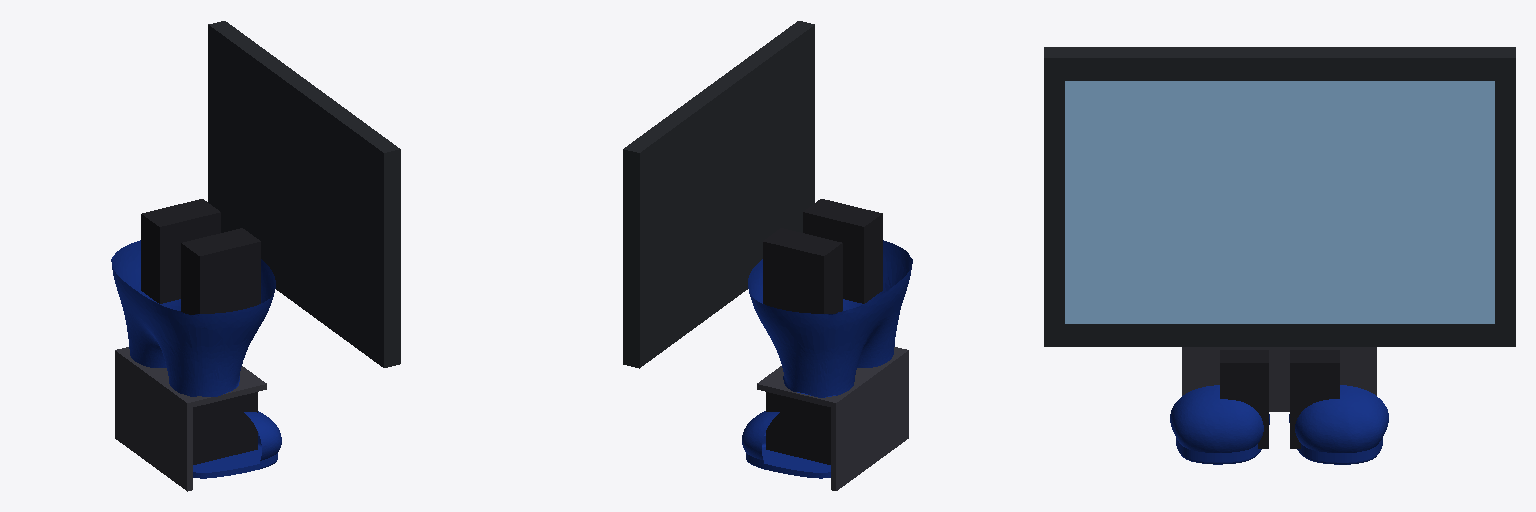
URDF robot description (haetburi):
<?xml version="1.0"?>
<!-- Haetburi biped (v14_sts3032_w4) - generated by tools/build_model.py, do not edit by hand -->
<robot name="haetburi">
  <mujoco>
    <compiler meshdir="." balanceinertia="true" discardvisual="false" strippath="false" fusestatic="false"/>
  </mujoco>
  <material name="display"><color rgba="0.18 0.19 0.21 1"/></material>
  <material name="screen"><color rgba="0.62 0.80 0.95 1"/></material>
  <material name="shell"><color rgba="0.106 0.216 0.541 1"/></material>
  <material name="motor"><color rgba="0.15 0.15 0.17 1"/></material>
  <material name="foot"><color rgba="0.25 0.25 0.28 1"/></material>
  <link name="world"/>
  <joint name="floating_base" type="floating">
    <parent link="world"/><child link="pelvis"/>
    <origin xyz="0 0 0" rpy="0 0 0"/>
  </joint>
  <link name="pelvis">
    <inertial>
      <origin xyz="0.00752134 -3.09549e-05 0.0175519" rpy="0 0 0"/>
      <mass value="0.194539"/>
      <inertia ixx="3.84893e-05" ixy="-2.54194e-08" ixz="-1.8299e-06" iyy="3.1688e-05" iyz="3.85895e-08" izz="3.09254e-05"/>
    </inertial>
    <visual><origin xyz="0 0 0" rpy="0 0 0"/><geometry><mesh filename="meshes/pelvis.stl"/></geometry><material name="shell"/></visual>
    <visual><origin xyz="0.00550139 0.0128646 0.02975" rpy="0 0 0"/><geometry><box size="0.023 0.012 0.0275"/></geometry><material name="motor"/></visual>
    <visual><origin xyz="0.00549861 -0.0130233 0.02975" rpy="0 0 0"/><geometry><box size="0.023 0.012 0.0275"/></geometry><material name="motor"/></visual>
    <collision><origin xyz="0.00392379 -7.68719e-05 0.013725" rpy="0 0 0"/><geometry><box size="0.0470444 0.0624721 0.02745"/></geometry></collision>
  </link>
  <link name="torso">
    <inertial>
      <origin xyz="0.00848105 5.13435e-05 0.0633027" rpy="0 0 0"/>
      <mass value="0.433859"/>
      <inertia ixx="0.00187999" ixy="-4.98097e-06" ixz="0.000272758" iyy="0.00184849" iyz="-5.08802e-06" izz="0.00105021"/>
    </inertial>
    <visual><origin xyz="0 0 0" rpy="0 0 0"/><geometry><mesh filename="meshes/torso.stl"/></geometry><material name="shell"/></visual>
    <visual><origin xyz="0.0441464 0 0.0188042" rpy="0 0 0"/><geometry><box size="0.00621 0.11367 0.076842"/></geometry><material name="display"/></visual>
    <visual><origin xyz="0.0472514 0 0.0188042" rpy="0 0 0"/><geometry><box size="0.0004 0.10368 0.0648"/></geometry><material name="screen"/></visual>
    <collision><origin xyz="-0.0204969 -9.54169e-07 0.0151218" rpy="0 0 0"/><geometry><box size="0.0962103 0.0652374 0.064245"/></geometry></collision>
    <collision><origin xyz="0.025029 0.0505323 0.0304716" rpy="0 0 0"/><geometry><sphere radius="0.0365529"/></geometry></collision>
    <collision><origin xyz="0.025202 -0.0506097 0.0304716" rpy="0 0 0"/><geometry><sphere radius="0.0365178"/></geometry></collision>
    <collision><origin xyz="-0.00314156 0.000160662 0.0616889" rpy="0 0 0"/><geometry><sphere radius="0.0626954"/></geometry></collision>
    <collision><origin xyz="-0.00547428 -7.38644e-05 0.0905586" rpy="0 0 0"/><geometry><sphere radius="0.0723319"/></geometry></collision>
    <collision><origin xyz="-0.00833577 -0.00012191 0.119433" rpy="0 0 0"/><geometry><sphere radius="0.0714941"/></geometry></collision>
    <collision><origin xyz="-0.00653939 0.000514991 0.148306" rpy="0 0 0"/><geometry><sphere radius="0.0621668"/></geometry></collision>
    <collision><origin xyz="-0.00386956 0.00407629 0.177197" rpy="0 0 0"/><geometry><sphere radius="0.0443106"/></geometry></collision>
    <collision><origin xyz="-0.00709149 -0.00134731 0.206063" rpy="0 0 0"/><geometry><sphere radius="0.0257148"/></geometry></collision>
    <collision><origin xyz="0.0441464 0 0.0188042" rpy="0 0 0"/><geometry><box size="0.00621 0.11367 0.076842"/></geometry></collision>
  </link>
  <link name="leg_l">
    <inertial>
      <origin xyz="-0.000257424 5.8831e-05 -0.0142599" rpy="0 0 0"/>
      <mass value="0.0257317"/>
      <inertia ixx="4.43468e-06" ixy="-2.23639e-09" ixz="6.05581e-08" iyy="2.30179e-06" iyz="-1.15013e-08" izz="4.0091e-06"/>
    </inertial>
    <visual><origin xyz="0 0 0" rpy="0 0 0"/><geometry><mesh filename="meshes/leg_l.stl"/></geometry><material name="shell"/></visual>
    <visual><origin xyz="-0.0121606 -0.00443493 -0.0211375" rpy="0 0 0"/><geometry><box size="0.002 0.03 0.031475"/></geometry><material name="foot"/></visual>
    <visual><origin xyz="0.00171437 -0.00443493 -0.0064" rpy="0 0 0"/><geometry><box size="0.02975 0.03 0.002"/></geometry><material name="foot"/></visual>
    <collision><origin xyz="-2.97628e-07 -4.10307e-06 -0.0027" rpy="0 0 0"/><geometry><box size="0.0245401 0.0224828 0.0054"/></geometry></collision>
  </link>
  <link name="foot_l">
    <inertial>
      <origin xyz="0.00232575 0.00116885 0.00397582" rpy="0 0 0"/>
      <mass value="0.0312272"/>
      <inertia ixx="2.34001e-06" ixy="-3.55396e-07" ixz="3.67791e-07" iyy="4.17445e-06" iyz="2.19561e-07" izz="3.35464e-06"/>
    </inertial>
    <visual><origin xyz="0 0 0" rpy="0 0 0"/><geometry><mesh filename="meshes/foot_l.stl"/></geometry><material name="shell"/></visual>
    <visual><origin xyz="-0 0 0.0055" rpy="0 0 0"/><geometry><box size="0.0275 0.012 0.023"/></geometry><material name="motor"/></visual>
    <collision><origin xyz="0 0 0" rpy="0 0 0"/><geometry><mesh filename="meshes/foot_l.stl"/></geometry></collision>
    <collision><origin xyz="-0 0 0.0055" rpy="0 0 0"/><geometry><box size="0.0275 0.012 0.023"/></geometry></collision>
  </link>
  <link name="leg_r">
    <inertial>
      <origin xyz="-7.4467e-05 2.98106e-05 -0.0139986" rpy="0 0 0"/>
      <mass value="0.0265092"/>
      <inertia ixx="4.52639e-06" ixy="-2.20339e-08" ixz="1.87991e-08" iyy="2.36751e-06" iyz="-8.93925e-09" izz="4.04659e-06"/>
    </inertial>
    <visual><origin xyz="0 0 0" rpy="0 0 0"/><geometry><mesh filename="meshes/leg_r.stl"/></geometry><material name="shell"/></visual>
    <visual><origin xyz="-0.0121579 0.00447001 -0.0211375" rpy="0 0 0"/><geometry><box size="0.002 0.03 0.031475"/></geometry><material name="foot"/></visual>
    <visual><origin xyz="0.00171714 0.00447001 -0.0064" rpy="0 0 0"/><geometry><box size="0.02975 0.03 0.002"/></geometry><material name="foot"/></visual>
    <collision><origin xyz="7.10769e-07 6.50464e-06 -0.0027" rpy="0 0 0"/><geometry><box size="0.0245202 0.0225261 0.0054"/></geometry></collision>
  </link>
  <link name="foot_r">
    <inertial>
      <origin xyz="0.00230814 -0.00117593 0.00397711" rpy="0 0 0"/>
      <mass value="0.0311997"/>
      <inertia ixx="2.34132e-06" ixy="3.56066e-07" ixz="3.66295e-07" iyy="4.16287e-06" iyz="-2.22094e-07" izz="3.34549e-06"/>
    </inertial>
    <visual><origin xyz="0 0 0" rpy="0 0 0"/><geometry><mesh filename="meshes/foot_r.stl"/></geometry><material name="shell"/></visual>
    <visual><origin xyz="-0 0 0.0055" rpy="0 0 0"/><geometry><box size="0.0275 0.012 0.023"/></geometry><material name="motor"/></visual>
    <collision><origin xyz="0 0 0" rpy="0 0 0"/><geometry><mesh filename="meshes/foot_r.stl"/></geometry></collision>
    <collision><origin xyz="-0 0 0.0055" rpy="0 0 0"/><geometry><box size="0.0275 0.012 0.023"/></geometry></collision>
  </link>
  <joint name="waist_fixed" type="fixed">
    <parent link="pelvis"/><child link="torso"/>
    <origin xyz="0 0 0.02745" rpy="0 0 0"/>
  </joint>
  <joint name="hip_yaw_l" type="revolute">
    <parent link="pelvis"/><child link="leg_l"/>
    <origin xyz="1.38563e-06 0.0128646 0" rpy="0 0 0"/>
    <axis xyz="0 0 1"/>
    <limit lower="-0.523599" upper="0.523599" effort="0.44" velocity="11.6"/>
    <dynamics damping="0.03142857142857144" friction="0.012571428571428574"/>
  </joint>
  <joint name="hip_yaw_r" type="revolute">
    <parent link="pelvis"/><child link="leg_r"/>
    <origin xyz="-1.38563e-06 -0.0130233 0" rpy="0 0 0"/>
    <axis xyz="0 0 1"/>
    <limit lower="-0.523599" upper="0.523599" effort="0.44" velocity="11.6"/>
    <dynamics damping="0.03142857142857144" friction="0.012571428571428574"/>
  </joint>
  <joint name="ankle_roll_l" type="revolute">
    <parent link="leg_l"/><child link="foot_l"/>
    <origin xyz="0.00458937 -0.00443493 -0.026875" rpy="0 0 0"/>
    <axis xyz="1 0 0"/>
    <limit lower="-0.261799" upper="0.261799" effort="0.44" velocity="11.6"/>
    <dynamics damping="0.03142857142857144" friction="0.012571428571428574"/>
  </joint>
  <joint name="ankle_roll_r" type="revolute">
    <parent link="leg_r"/><child link="foot_r"/>
    <origin xyz="0.00459214 0.00447001 -0.026875" rpy="0 0 0"/>
    <axis xyz="1 0 0"/>
    <limit lower="-0.261799" upper="0.261799" effort="0.44" velocity="11.6"/>
    <dynamics damping="0.03142857142857144" friction="0.012571428571428574"/>
  </joint>
</robot>

--- Facts derived from the render (not from the file) ---
The picture shows the robot from 3 angles, left to right: view 1: azimuth 30°, elevation 25°; view 2: azimuth 150°, elevation 25°; view 3: azimuth 270°, elevation 25°; orthographic projection.
Robot: haetburi — 7 links, 6 joints (4 revolute, 1 fixed, 1 floating); root link world; default pose: every joint at zero.
Visible links, largest first — view 1: torso, pelvis, leg_r, foot_r, leg_l; view 2: torso, pelvis, foot_l, leg_l, leg_r; view 3: torso, foot_l, foot_r, leg_l, leg_r.
Boxes of the visible links, x1,y1,x2,y2 form: torso: (208,21,400,367); pelvis: (111,199,275,382); leg_r: (141,366,266,491); foot_r: (193,392,281,478); leg_l: (115,342,168,456); torso: (623,21,814,368); pelvis: (748,199,912,382); foot_l: (742,392,830,478); leg_l: (757,366,882,490); leg_r: (855,341,908,471); torso: (1044,47,1515,346); foot_l: (1289,350,1388,464); foot_r: (1170,350,1269,464); leg_l: (1253,347,1376,411); leg_r: (1182,347,1301,395).
Bounding box of the posed robot: 0.067 × 0.1137 × 0.1216 m (x, y, z).
Meshes: 6 distinct files referenced, 5 mesh visuals loaded (5 binary STL); not drawn: 1 (reference not matched to a file when rendering).
